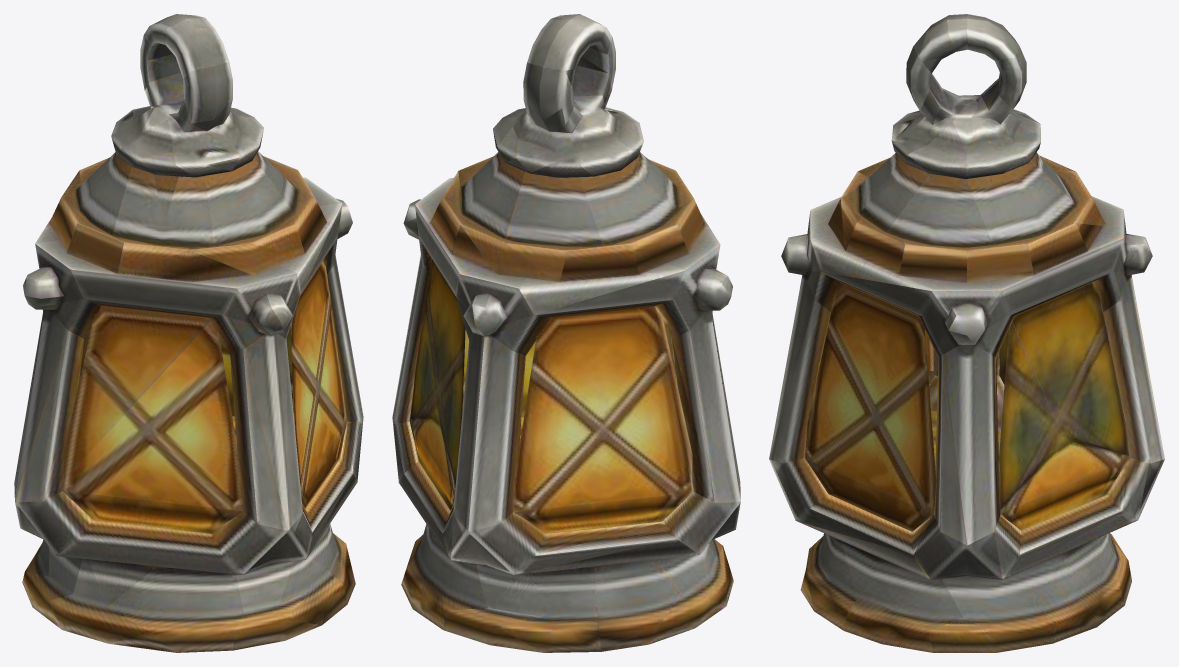
File: lantern_belt.glb
3 renders of one model, left to right at view 1: azimuth 30°, elevation 25°; view 2: azimuth 150°, elevation 25°; view 3: azimuth 270°, elevation 25°, orthographic.
Bounding box in the file's own units: 0.6465 × 1 × 0.6367.
Materials: 1 (1 with a texture image).
